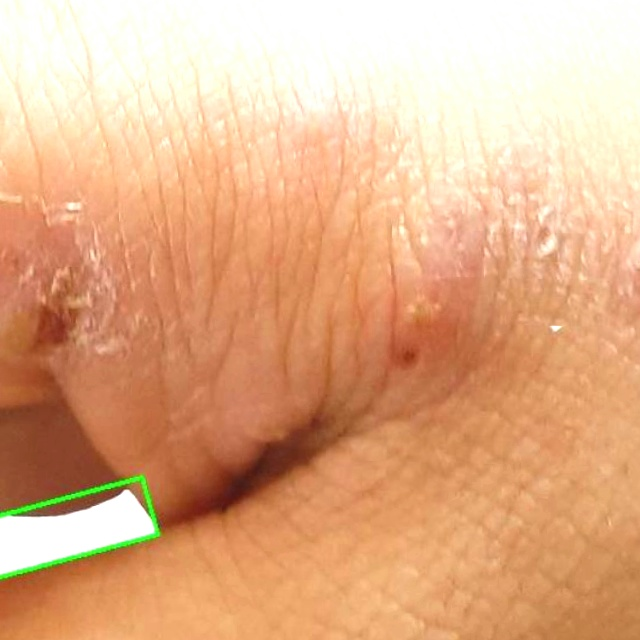Scabies: (0, 477, 160, 581)
